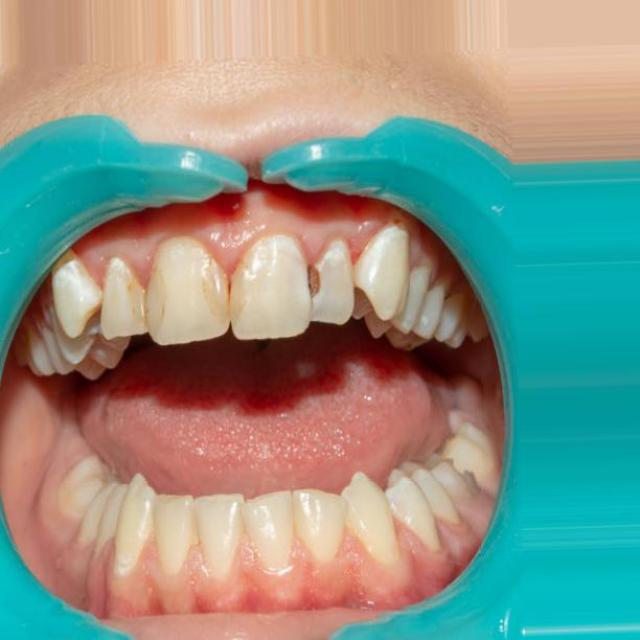caries: (199, 260, 257, 327), (123, 270, 172, 334), (296, 254, 334, 306)
